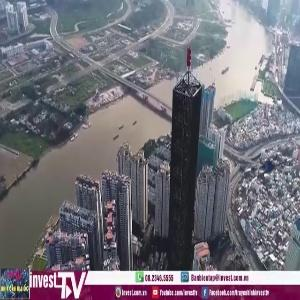drone: (245, 148, 296, 199)
